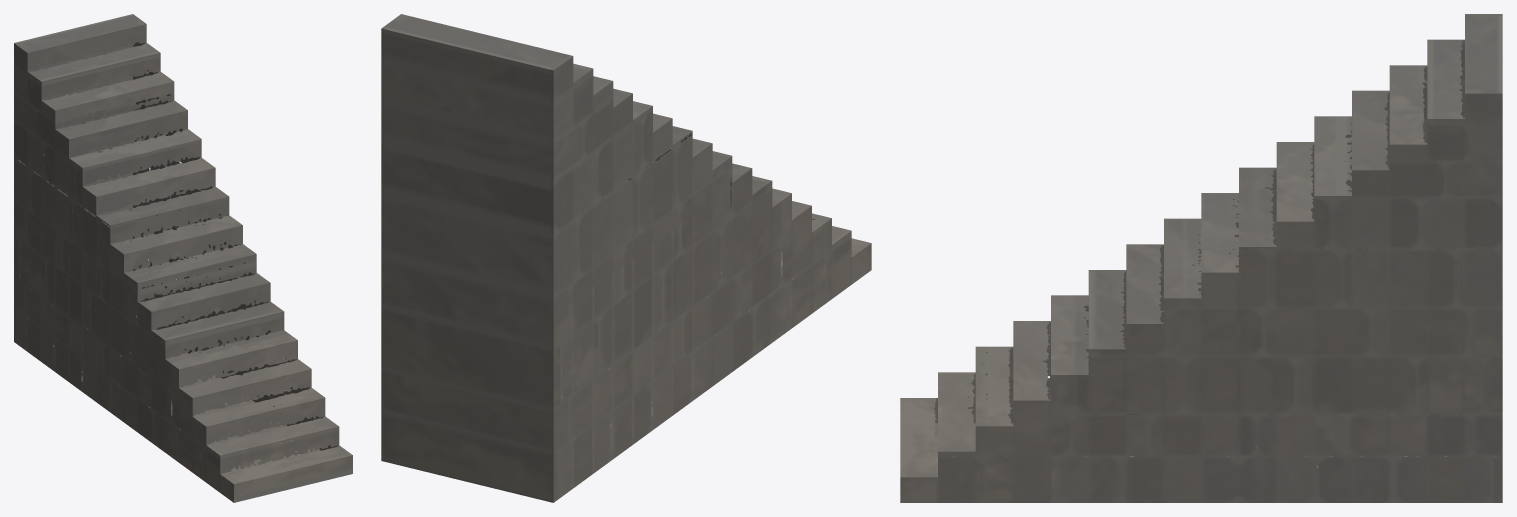
The picture shows the model from 3 angles, left to right: view 1: azimuth 30°, elevation 25°; view 2: azimuth 150°, elevation 25°; view 3: azimuth 270°, elevation 25°; orthographic projection. The views are drawn at different scales.
Parts seen in each view (by area): view 1: S19_Baked; view 2: S19_Baked; view 3: S19_Baked.
Boxes of the visible parts, left/top/right/bottom form: S19_Baked: left=14, top=14, right=352, bottom=502; S19_Baked: left=381, top=14, right=871, bottom=502; S19_Baked: left=900, top=14, right=1502, bottom=502.
Size of the model in its own units: 125 by 300 by 400.
